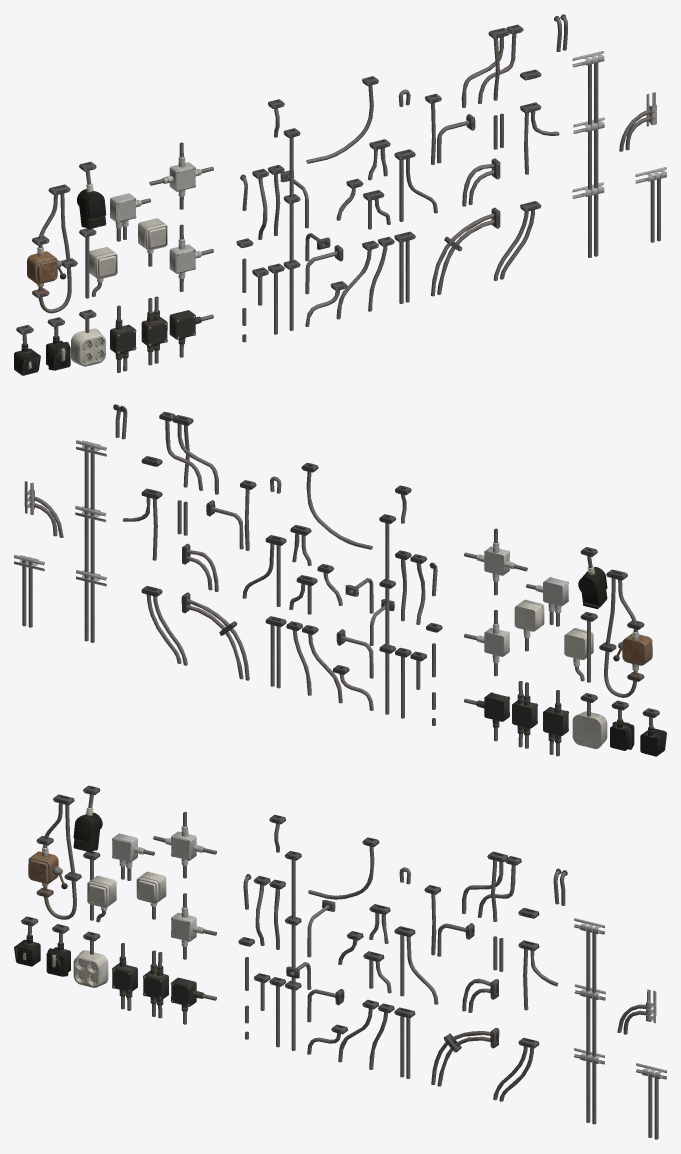
Rendered from modular-electric-cables.glb.
The picture shows the model from 3 angles, top to bottom: view 1: azimuth 30°, elevation 25°; view 2: azimuth 150°, elevation 25°; view 3: azimuth 330°, elevation 25°; orthographic projection.
Parts seen in each view (by area): view 1: cable_straight_medium, cable_box_3way; view 2: cable_straight_medium, cable_box_3way; view 3: cable_straight_medium, cable_box_3way.
Boxes of the visible parts, x1,y1,x2,y2 form: cable_straight_medium: (236, 14, 666, 342); cable_box_3way: (14, 142, 213, 375); cable_straight_medium: (14, 404, 442, 725); cable_box_3way: (464, 528, 666, 756); cable_straight_medium: (238, 814, 666, 1139); cable_box_3way: (14, 785, 216, 1024).
Bounding box in the file's own units: 2.08 × 0.7572 × 0.2146.
2 materials, 2 textured.
